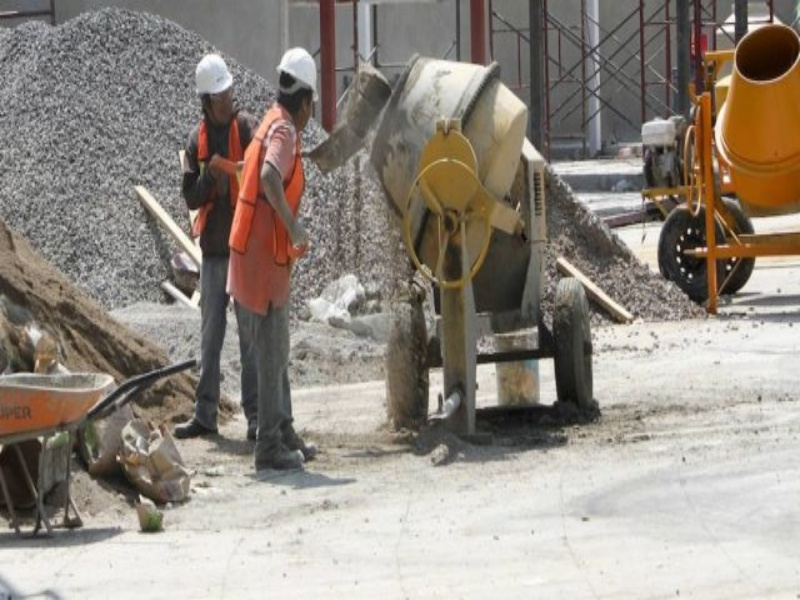casco: (275, 44, 321, 104), (192, 50, 237, 98)
